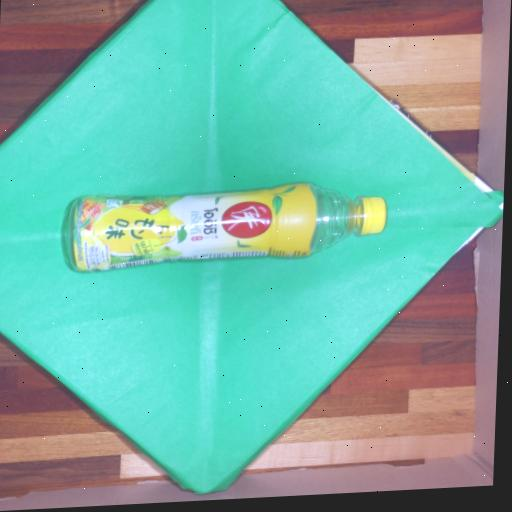bottle: (63, 184, 385, 271)
